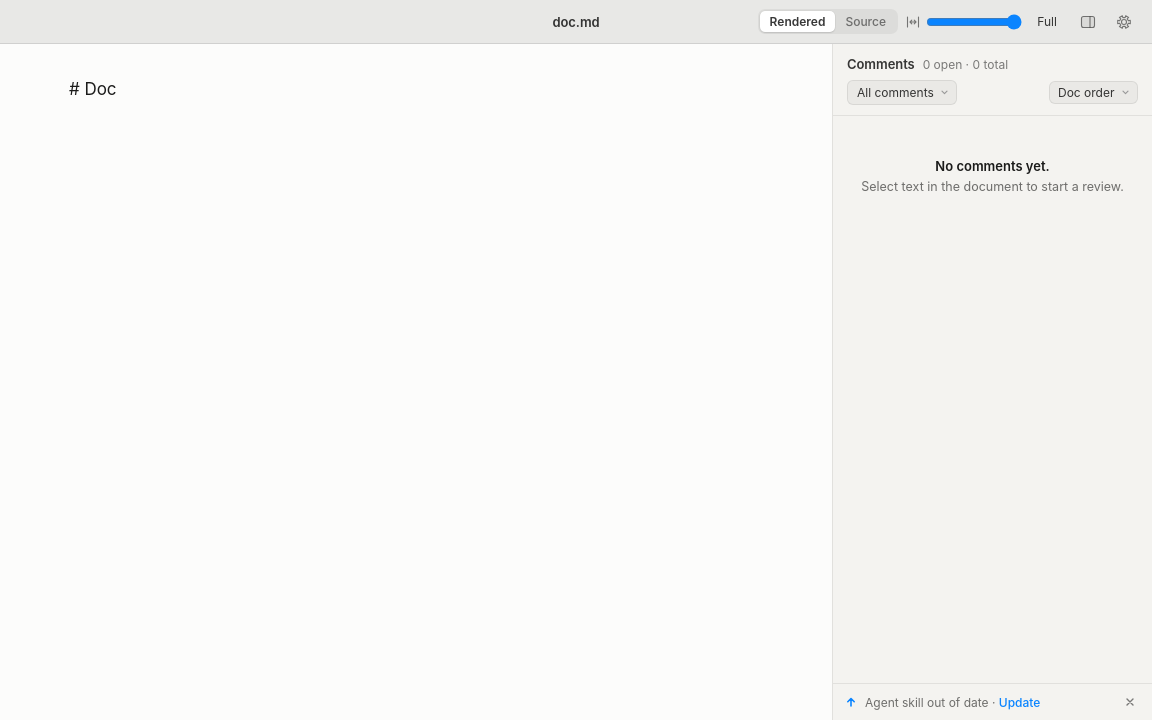
Test: the sidebar notice › stays away after a dismissal, for this version
Click the button with test id "fm-skill-notice-dismiss". click: (1130, 702)
box: [1120,692,1140,712]
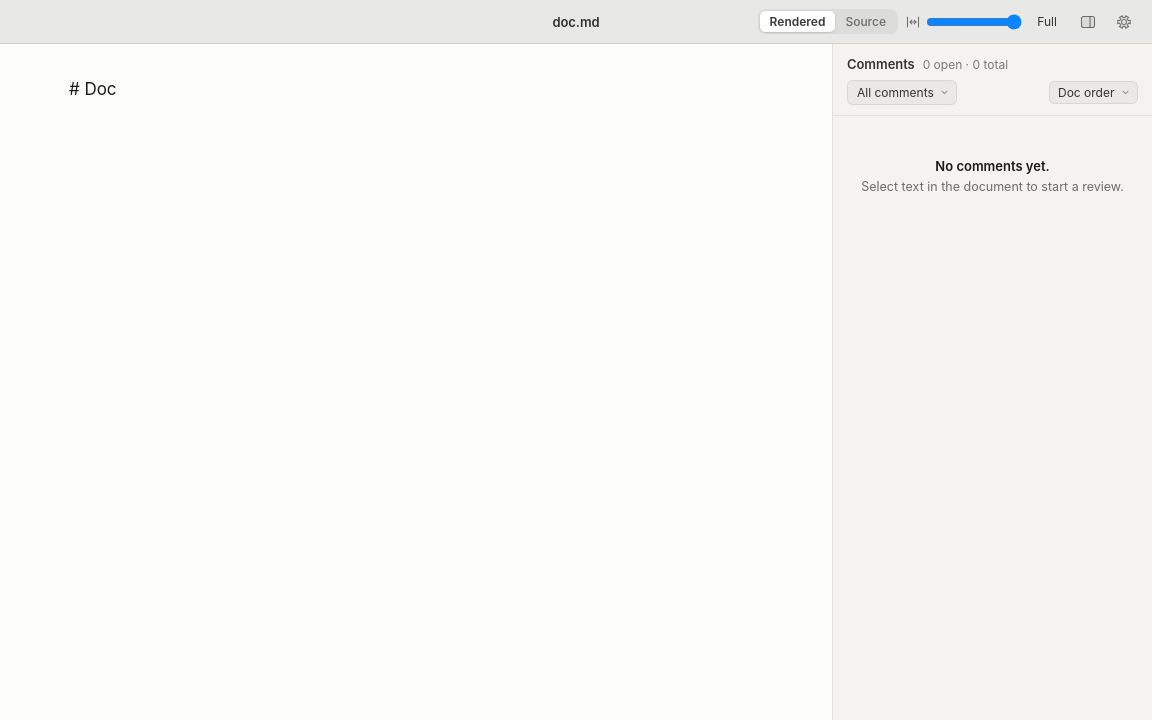
Expected: the element with test id "fm-skill-notice" is gone
